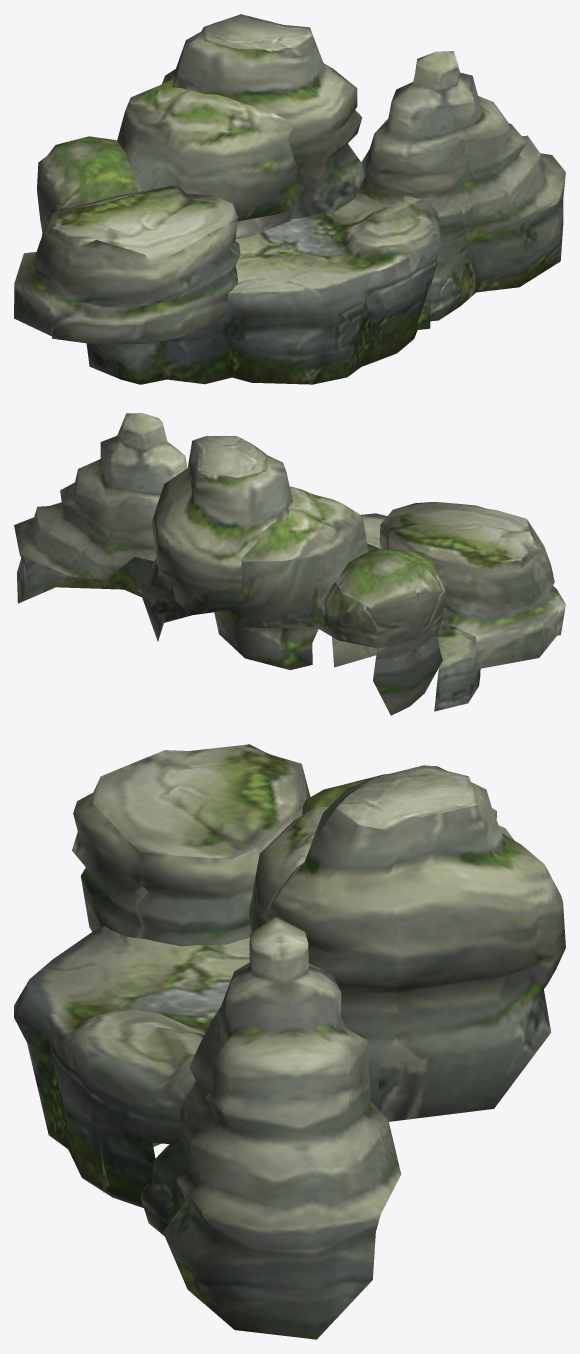
The model's file is 1005_Item_shitou_3.FBX.
The picture shows the model from 3 angles, top to bottom: view 1: azimuth 30°, elevation 25°; view 2: azimuth 150°, elevation 25°; view 3: azimuth 270°, elevation 25°; orthographic projection. The views are drawn at different scales.
Visible parts, largest first — view 1: 1005_Item_shitou_3; view 2: 1005_Item_shitou_3; view 3: 1005_Item_shitou_3.
Boxes of the visible parts, x1,y1,x2,y2 form: 1005_Item_shitou_3: [14, 14, 565, 384]; 1005_Item_shitou_3: [14, 413, 565, 715]; 1005_Item_shitou_3: [14, 744, 565, 1339].
Bounding box in the file's own units: 452 × 268 × 194.
1 material, 1 textured.
